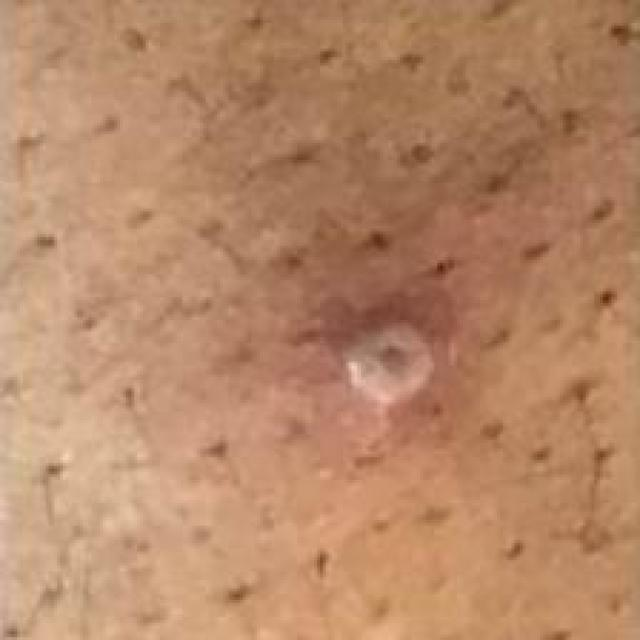monkeypox: (63, 119, 640, 608)
